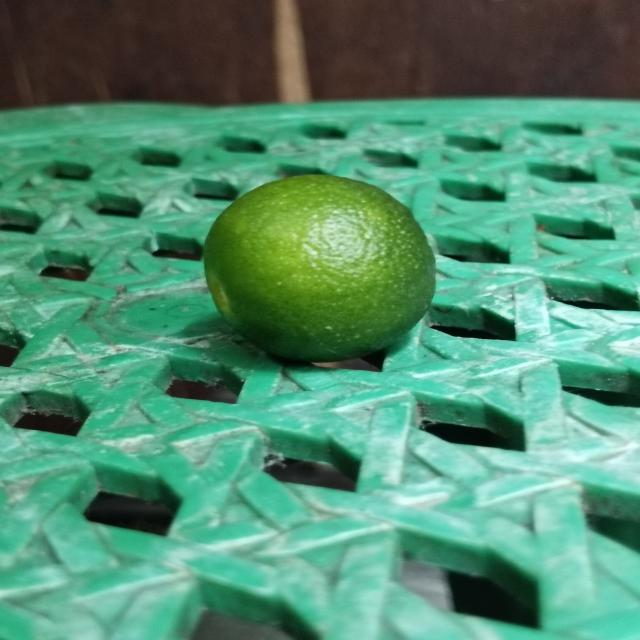heathy: (203, 169, 438, 370)
